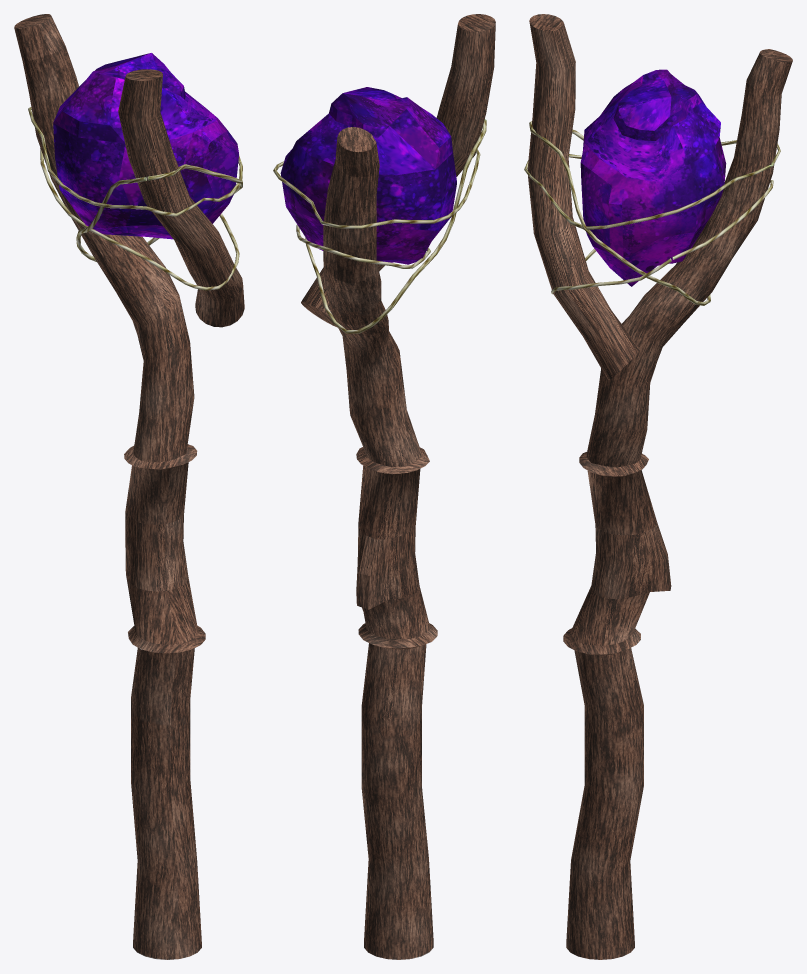
The model's file is staff.obj.
The picture shows the model from 3 angles, left to right: view 1: azimuth 30°, elevation 25°; view 2: azimuth 150°, elevation 25°; view 3: azimuth 270°, elevation 25°; orthographic projection.
Parts seen in each view (by area): view 1: StaffBranch1, Gem, StaffBranch2, Rope2, Rope1, Rope3; view 2: StaffBranch1, Gem, StaffBranch2, Rope3, Rope1, Rope2; view 3: StaffBranch1, Gem, StaffBranch2, Rope1, Rope3, Rope2.
Boxes of the visible parts, box(x1,y1,x2,y2) form: StaffBranch1: box(14, 14, 205, 959); Gem: box(53, 53, 238, 239); StaffBranch2: box(118, 69, 244, 327); Rope2: box(40, 148, 239, 290); Rope1: box(28, 107, 242, 216); Rope3: box(76, 164, 242, 261); StaffBranch1: box(323, 127, 437, 959); Gem: box(280, 87, 456, 264); StaffBranch2: box(301, 14, 495, 327); Rope3: box(305, 117, 486, 333); Rope1: box(273, 149, 480, 228); Rope2: box(296, 225, 430, 268); StaffBranch1: box(563, 49, 792, 959); Gem: box(580, 69, 726, 286); StaffBranch2: box(527, 14, 639, 380); Rope1: box(524, 140, 780, 229); Rope3: box(529, 121, 710, 305); Rope2: box(551, 180, 773, 294).
Size of the model in its own units: 15.09 by 79.42 by 21.5.
